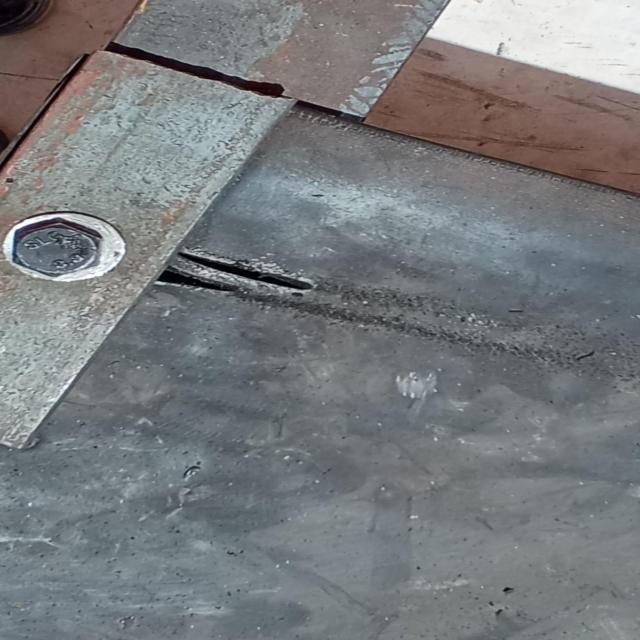Puncture: (499, 582, 517, 596), (493, 604, 505, 618), (485, 595, 495, 609)
Tear: (176, 248, 318, 296), (150, 260, 250, 299), (180, 458, 208, 482), (568, 348, 597, 367)
